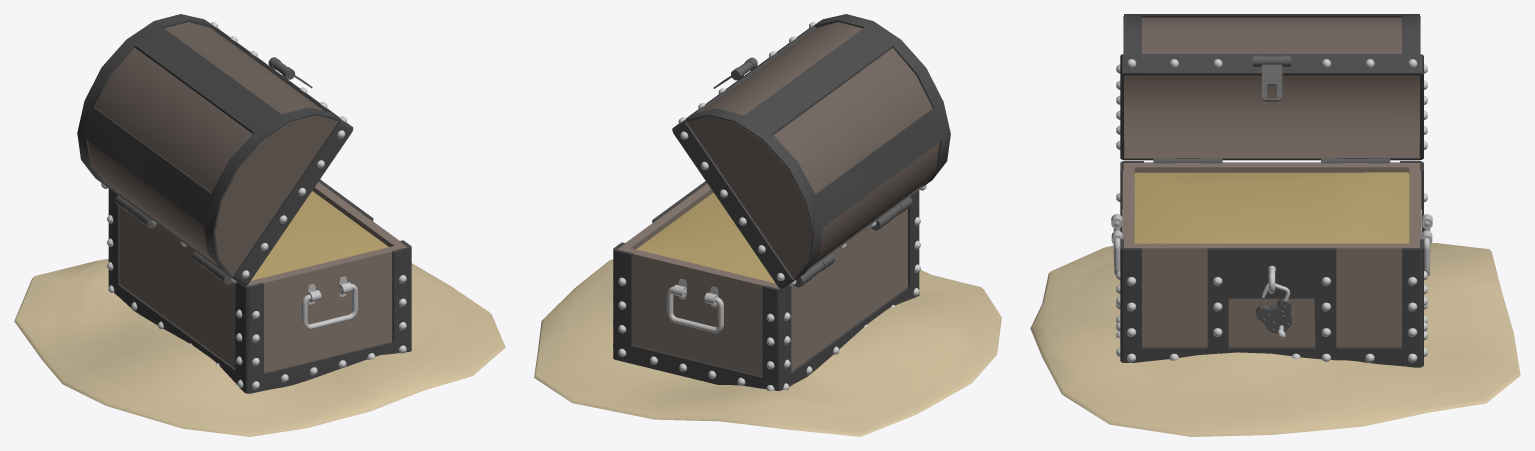
File: Chest.fbx
3 views of the same model, side by side, from view 1: azimuth 30°, elevation 25°; view 2: azimuth 150°, elevation 25°; view 3: azimuth 270°, elevation 25° (orthographic). The views are drawn at different scales.
Visible parts, largest first — view 1: polySurface115, pSphere1; view 2: polySurface115, pSphere1; view 3: polySurface115, pSphere1.
Boxes of the visible parts, bbox=[...] form: polySurface115: bbox=[77, 14, 411, 393]; pSphere1: bbox=[14, 258, 505, 436]; polySurface115: bbox=[613, 14, 950, 391]; pSphere1: bbox=[534, 259, 1001, 436]; polySurface115: bbox=[1111, 14, 1432, 367]; pSphere1: bbox=[1030, 243, 1520, 436].
Bounding box in the file's own units: 23.25 × 15.73 × 22.93.
